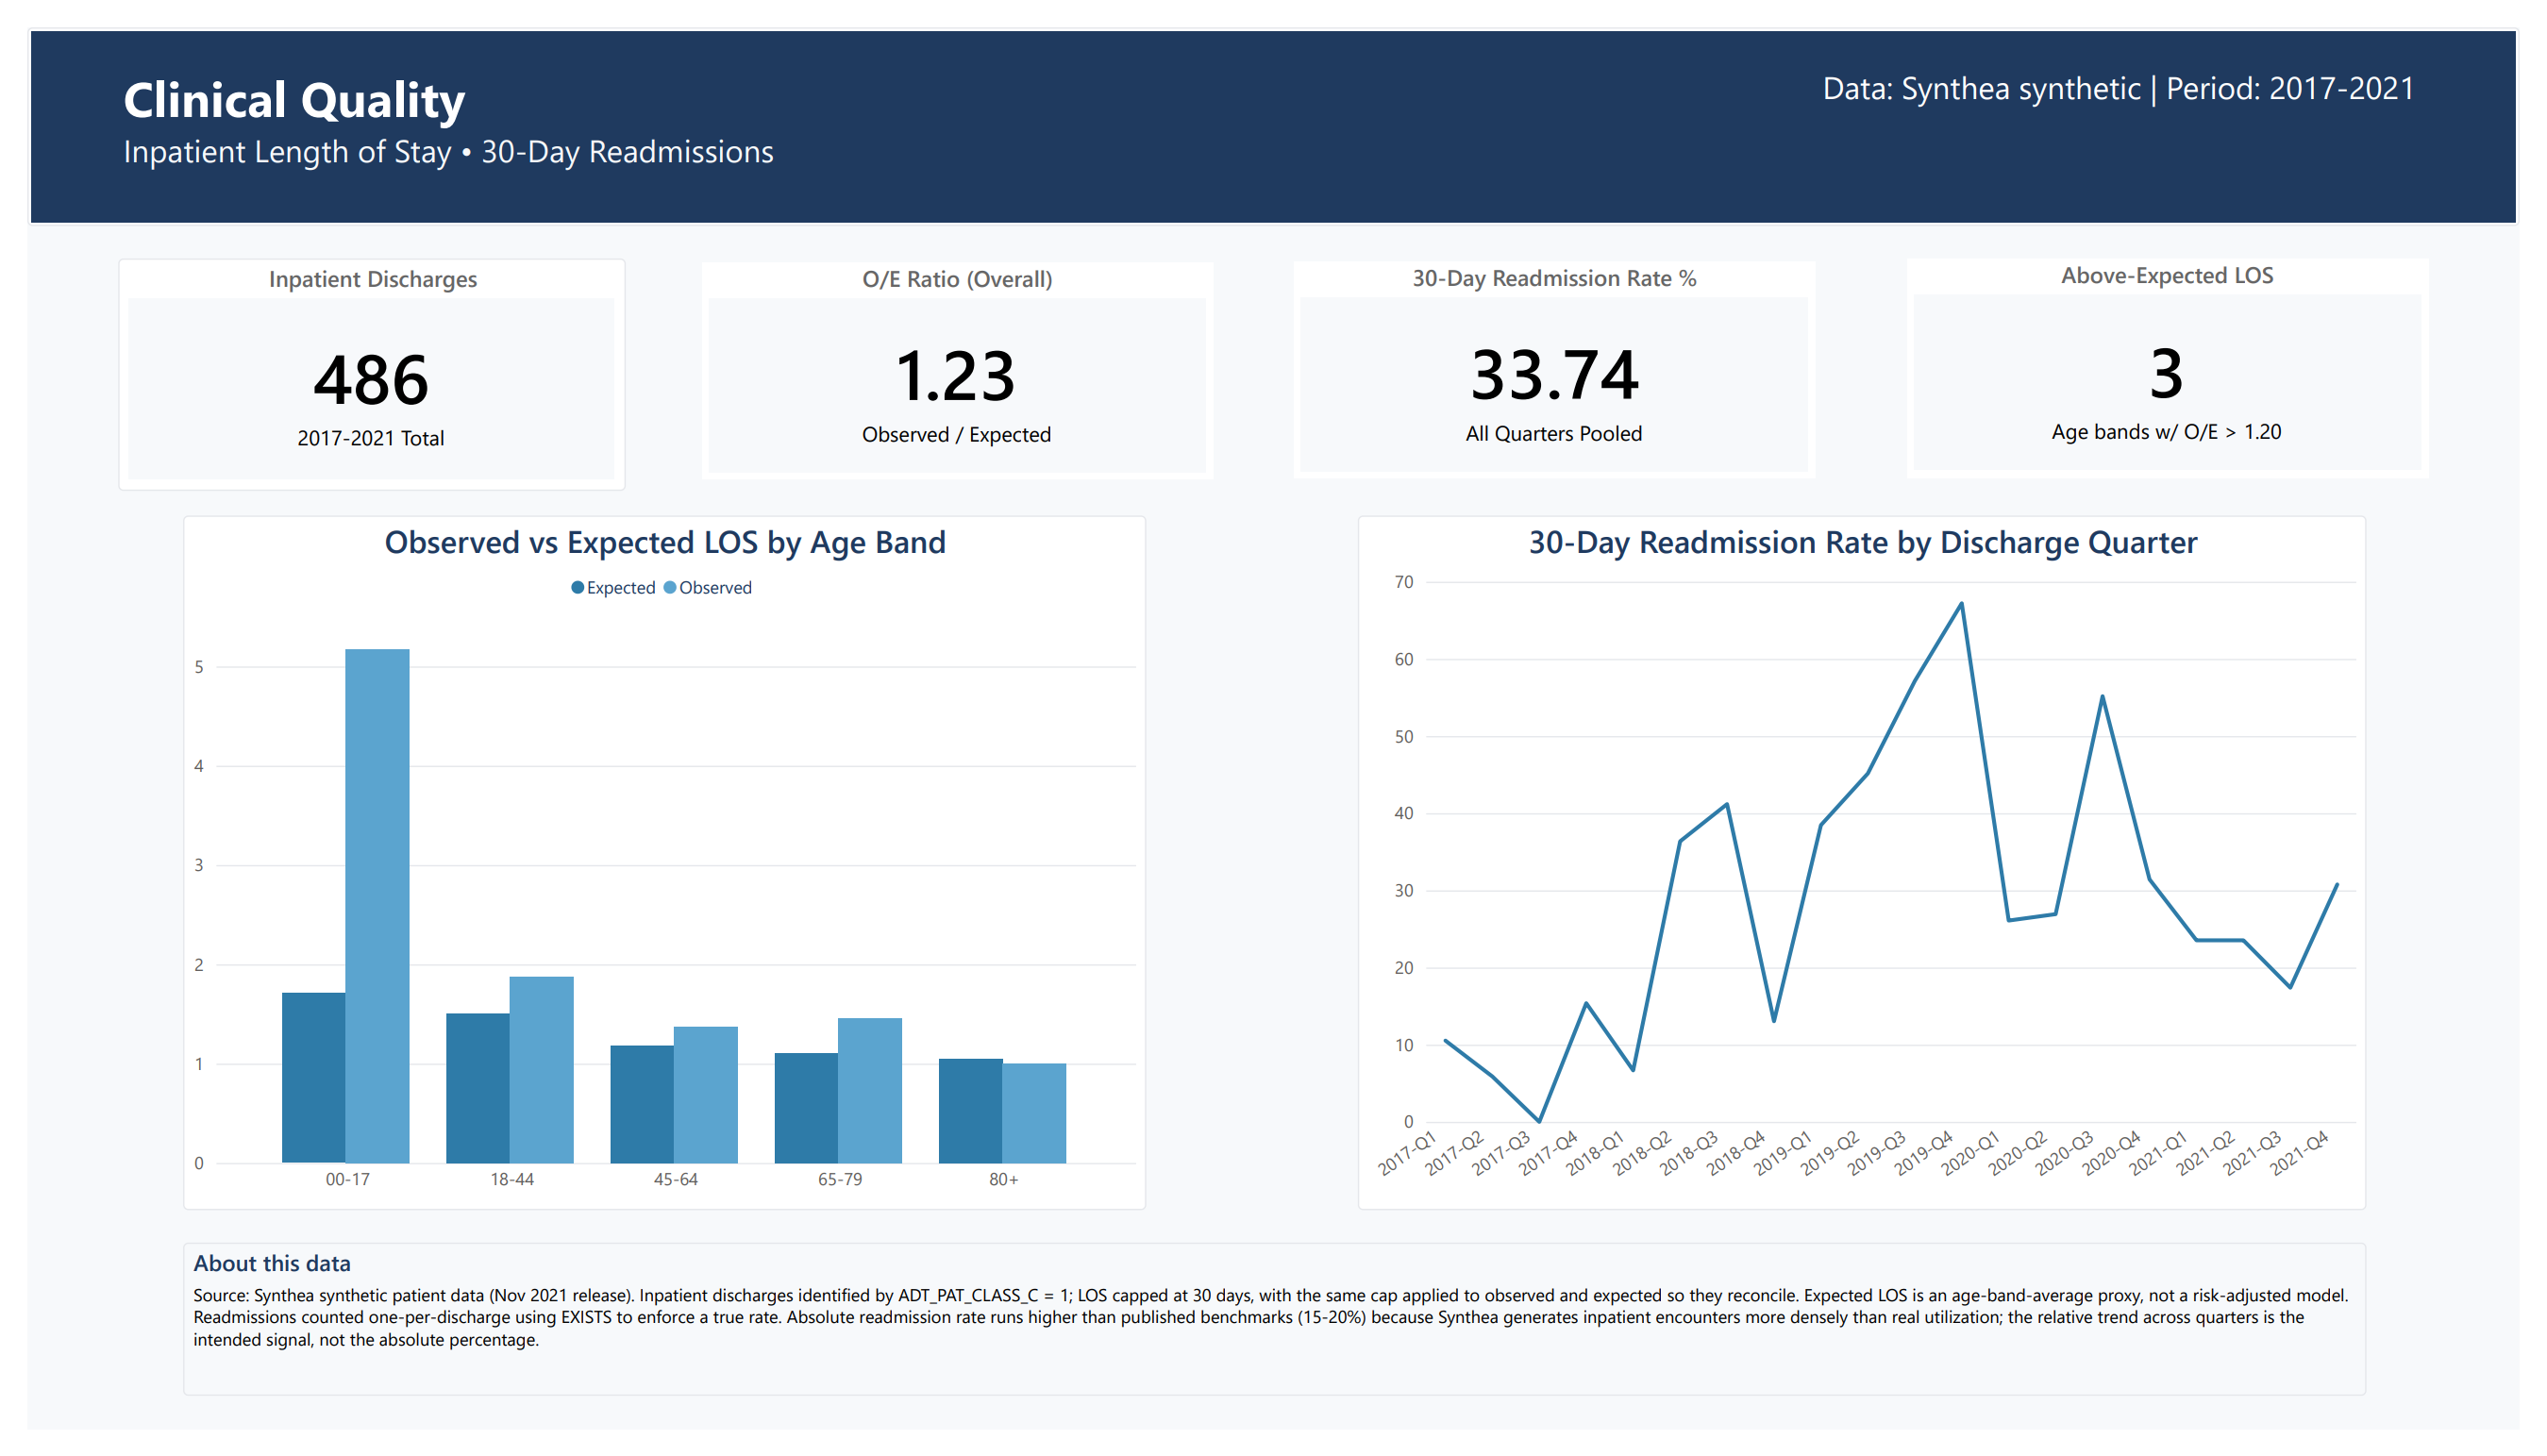

The dashboard page shown, as its layout file describes it:
{"tool":"powerbi","page":{"name":"Page 1","canvas":[1920,1080],"ordinal":0},"visuals":[{"type":"shape","box":[0,0,1920.4,153.2],"z":0},{"type":"textbox","box":[69.1,23.9,648.1,104.2],"z":1000},{"type":"textbox","box":[1378,24.4,542.4,77],"z":2000},{"type":"cardVisual","title":"Inpatient Discharges","fields":{"Data":["Sum(Report_01_LOS.Inpatient Discharges)"]},"box":[69.6,178.4,390.9,178.4],"z":3000},{"type":"cardVisual","title":"O/E Ratio (Overall) ","fields":{"Data":["Report_01_LOS.Overall O/E Ratio"]},"box":[520.4,180.8,393.4,167.4],"z":4000},{"type":"cardVisual","title":"30-Day Readmission Rate %","fields":{"Data":["Report_02_Readmissions.Overall Readmission Rate"]},"box":[976.1,179.6,401.9,167.4],"z":5000},{"type":"cardVisual","title":"Above-Expected LOS","fields":{"Data":["Report_01_LOS.High Risk Age Bands","Report_01_LOS.High Risk Age Bands"]},"box":[1447.7,178.4,401.9,168.6],"z":6000},{"type":"clusteredColumnChart","title":"Observed vs Expected LOS by Age Band","fields":{"Category":["Report_01_LOS.Age Band"],"Y":["Sum(Report_01_LOS.Avg Expected LOS (days))","Sum(Report_01_LOS.Avg Observed LOS (days))"]},"box":[119.7,376.3,742.8,535.1],"z":7000},{"type":"lineChart","title":"30-Day Readmission Rate by Discharge Quarter","fields":{"Category":["Report_02_Readmissions.Discharge Quarter"],"Y":["Sum(Report_02_Readmissions.Readmission Rate %)"]},"box":[1025,376.3,777,535.1],"z":8000},{"type":"textbox","title":"About this data","box":[119.7,935.8,1682.2,118.5],"z":9000}]}

Visuals, with their boxes in screenshot pixels (x1, y1, x2, y2), scaled from the page's 1920x1080 canvas onto the 2547x1456 screenshot:
shape: left=0, top=0, right=2546, bottom=207
textbox: left=92, top=32, right=951, bottom=173
textbox: left=1828, top=33, right=2546, bottom=137
"Inpatient Discharges" cardVisual: left=92, top=241, right=611, bottom=481
"O/E Ratio (Overall) " cardVisual: left=691, top=243, right=1213, bottom=469
"30-Day Readmission Rate %" cardVisual: left=1295, top=243, right=1828, bottom=468
"Above-Expected LOS" cardVisual: left=1920, top=241, right=2454, bottom=468
"Observed vs Expected LOS by Age Band" clusteredColumnChart: left=159, top=508, right=1144, bottom=1229
"30-Day Readmission Rate by Discharge Quarter" lineChart: left=1360, top=508, right=2390, bottom=1229
"About this data" textbox: left=159, top=1262, right=2390, bottom=1421
